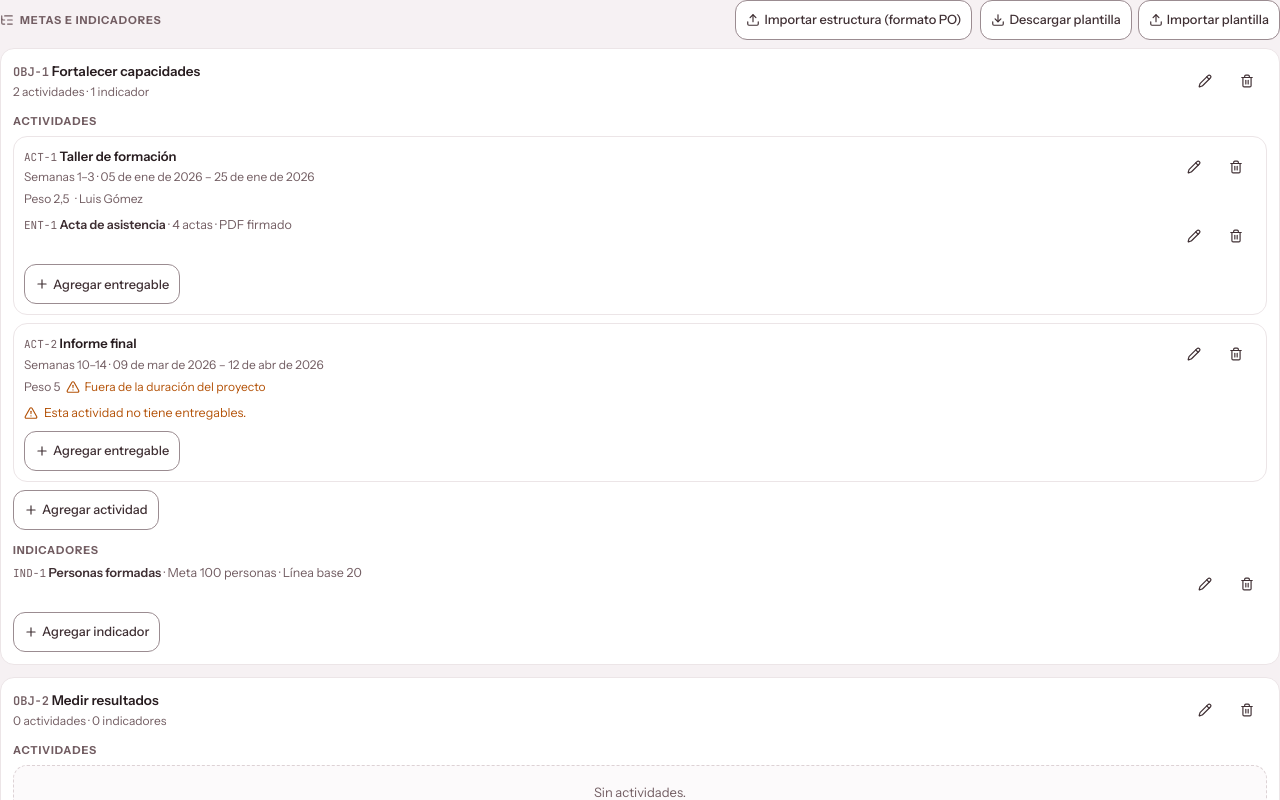
Test: ProjectEstructura › activities › deletes an activity and surfaces a 409 from the server
Click the button named "Eliminar actividad ACT-1": click(1236, 167) [1216,147,1256,187]
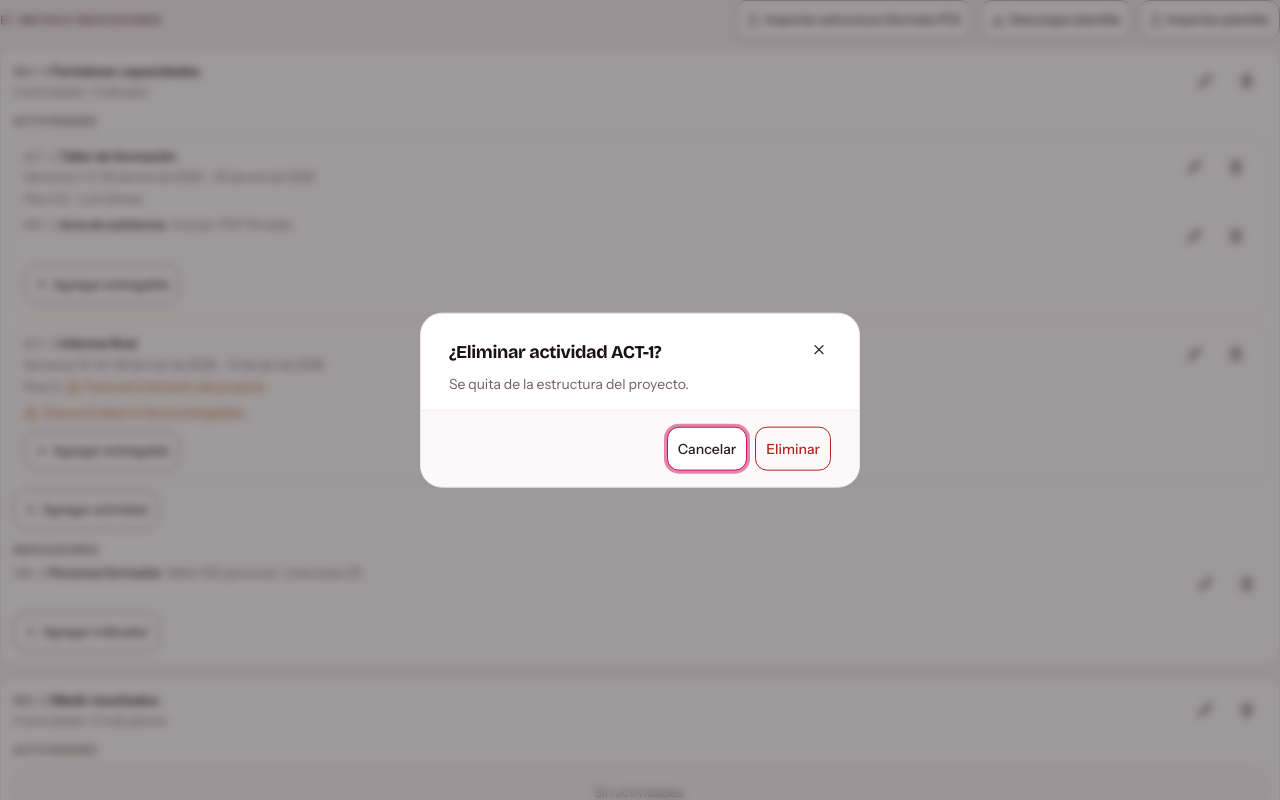
Click the button "Eliminar": click(793, 448) [755,426,831,470]
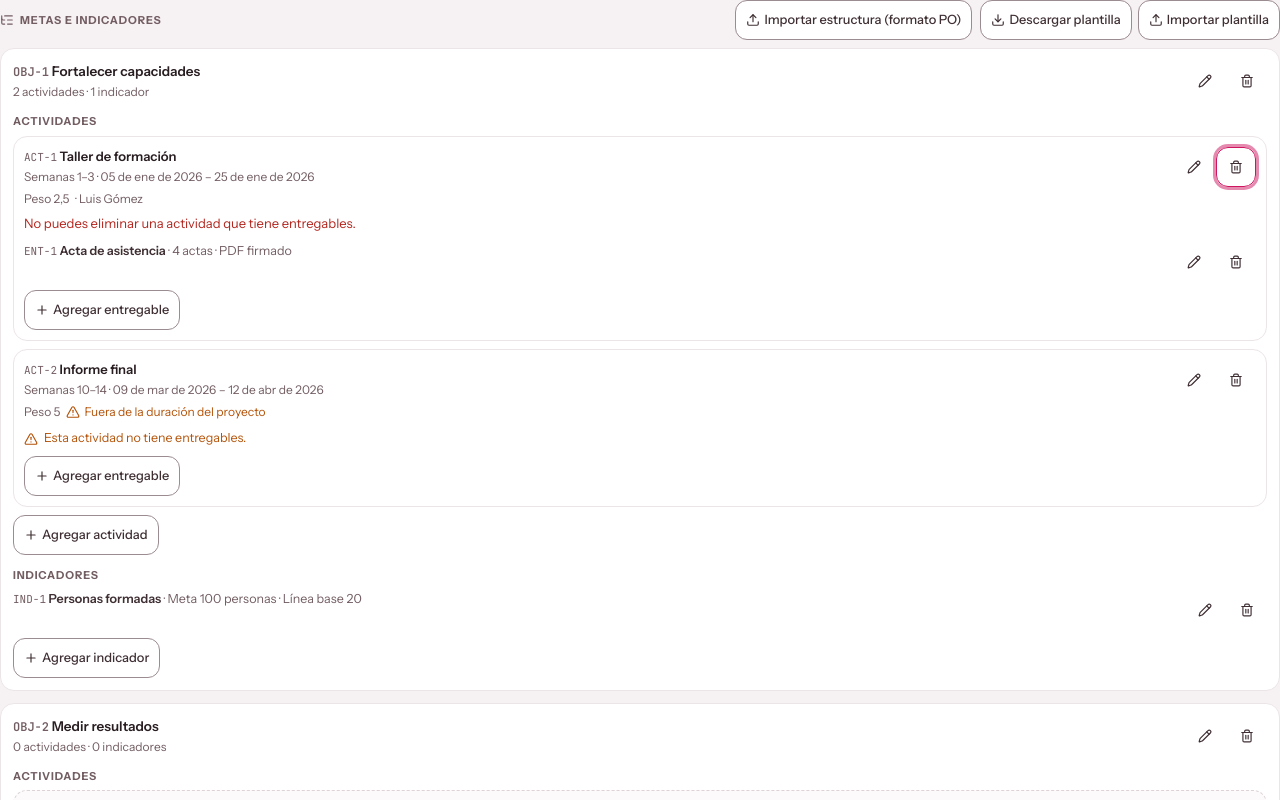
expect the message reads "No puedes eliminar una actividad que tiene entregables.": met, box [24,215,356,231]
